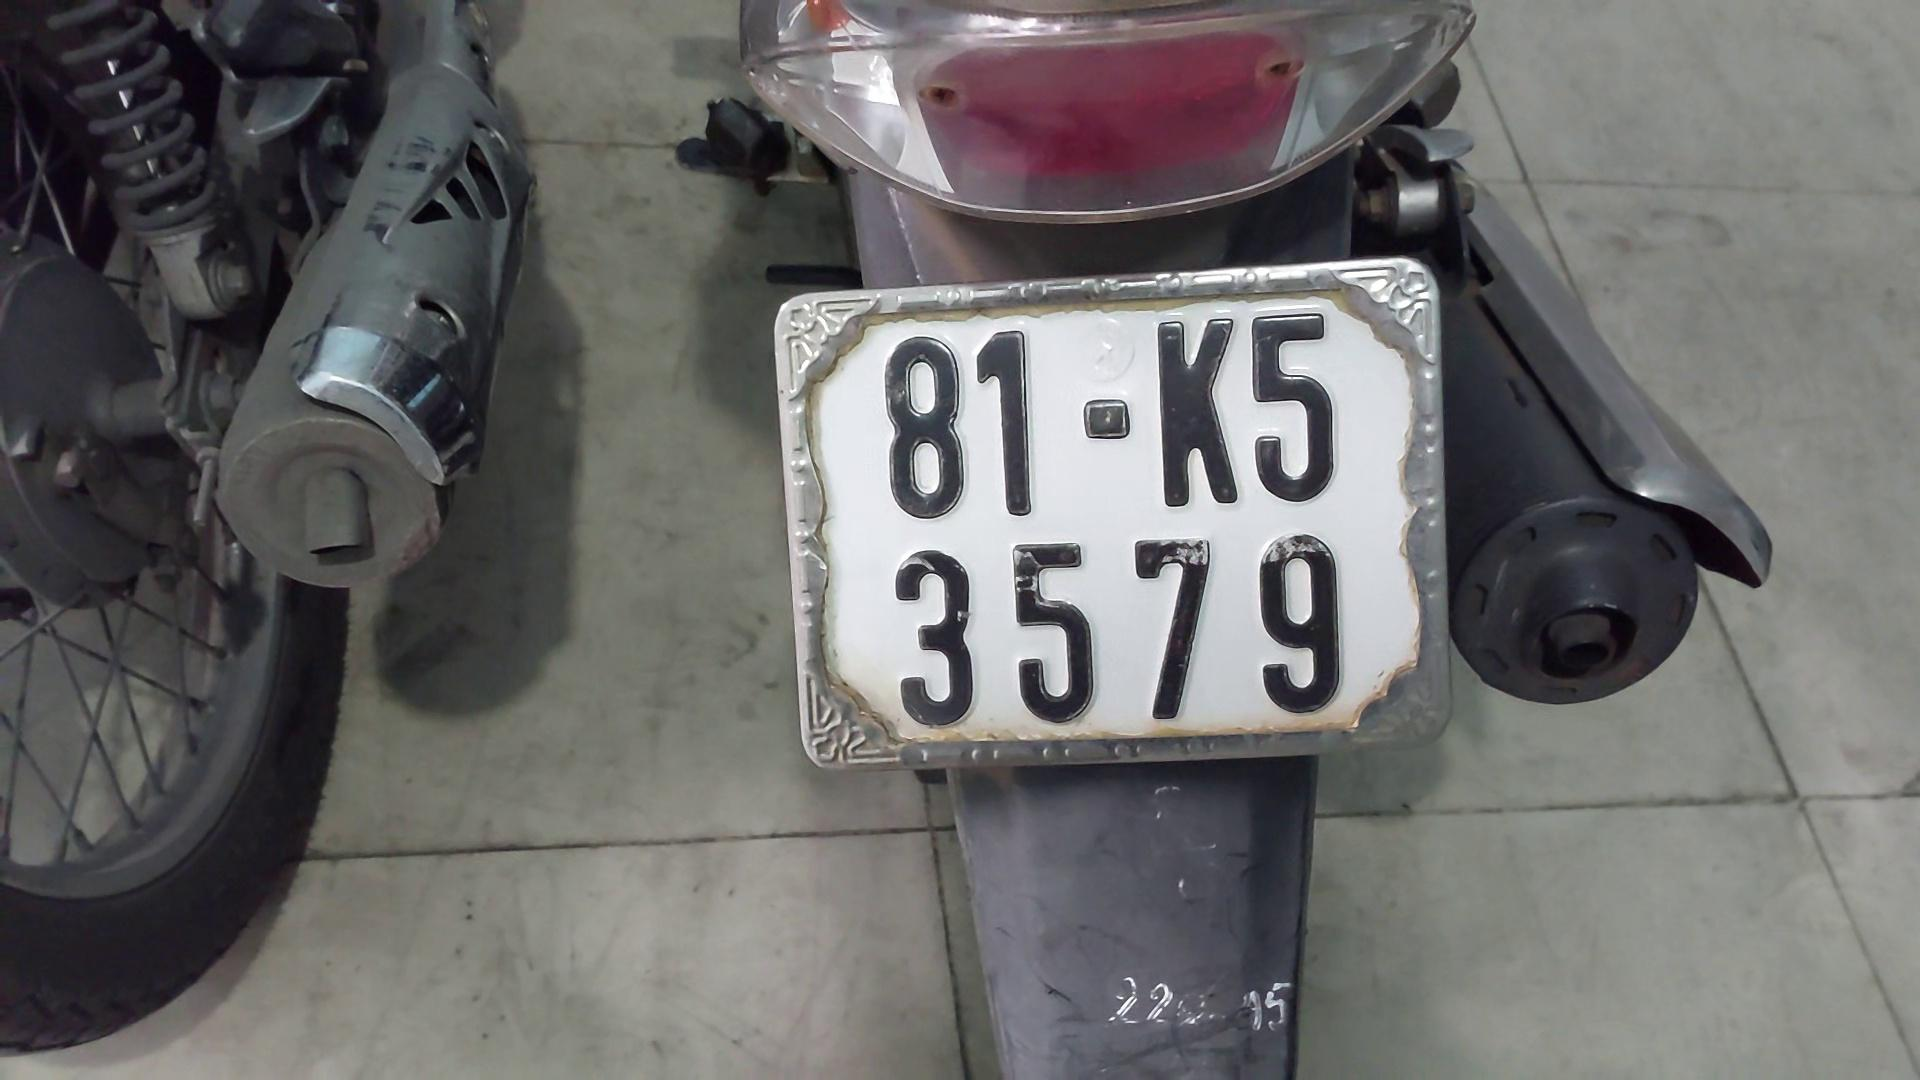numplate: (780, 273, 1423, 750)
